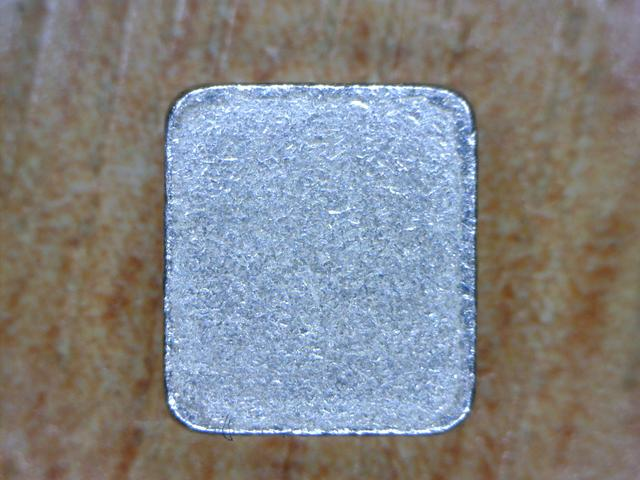ok: (149, 78, 495, 438)
